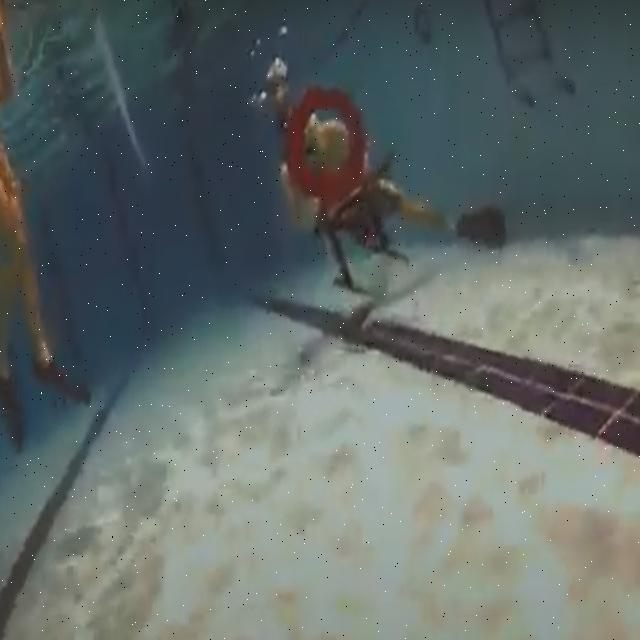Circle: (283, 83, 368, 204)
